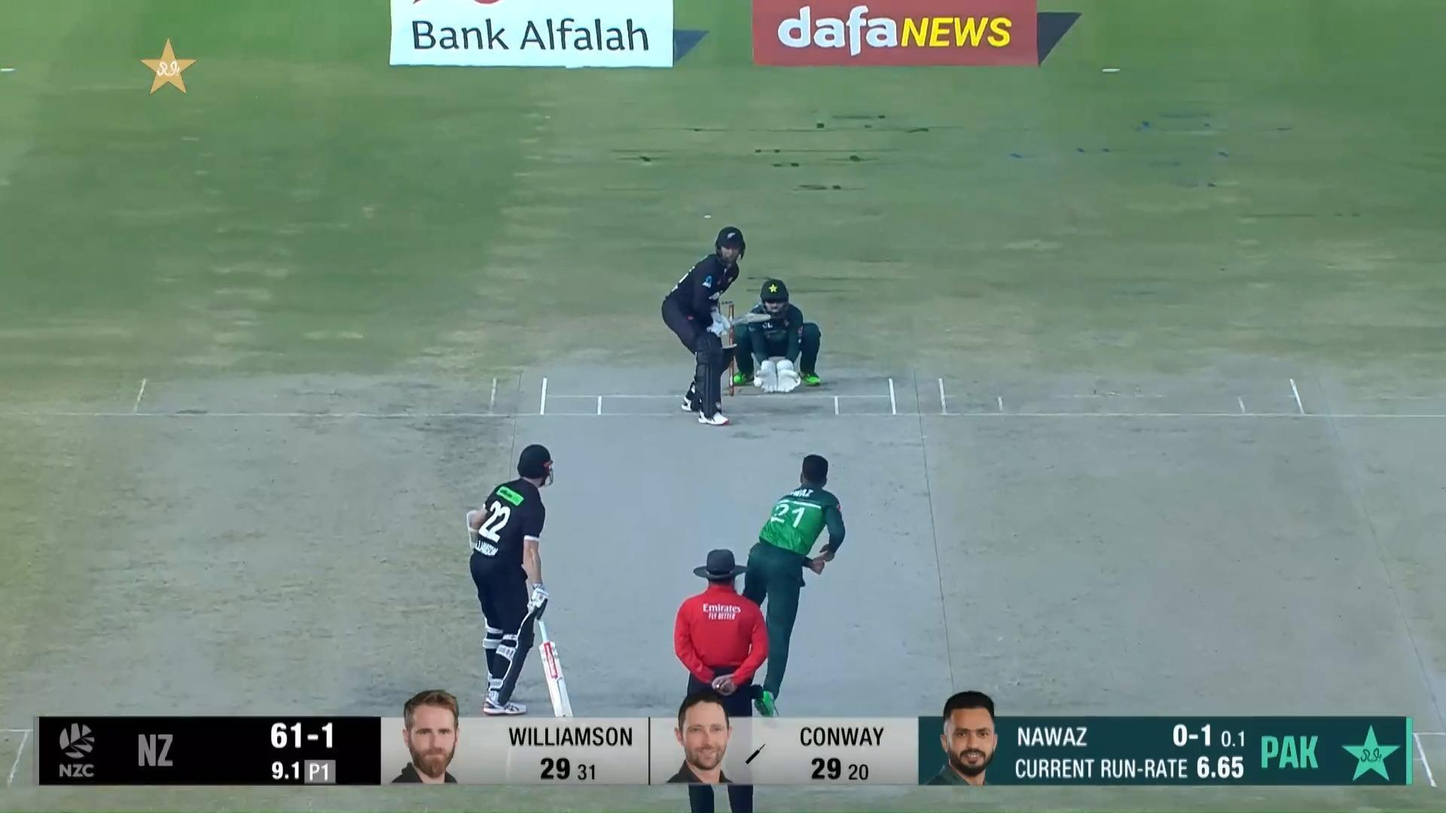BM 1: (661, 227, 772, 427)
BO: (740, 450, 848, 717)
